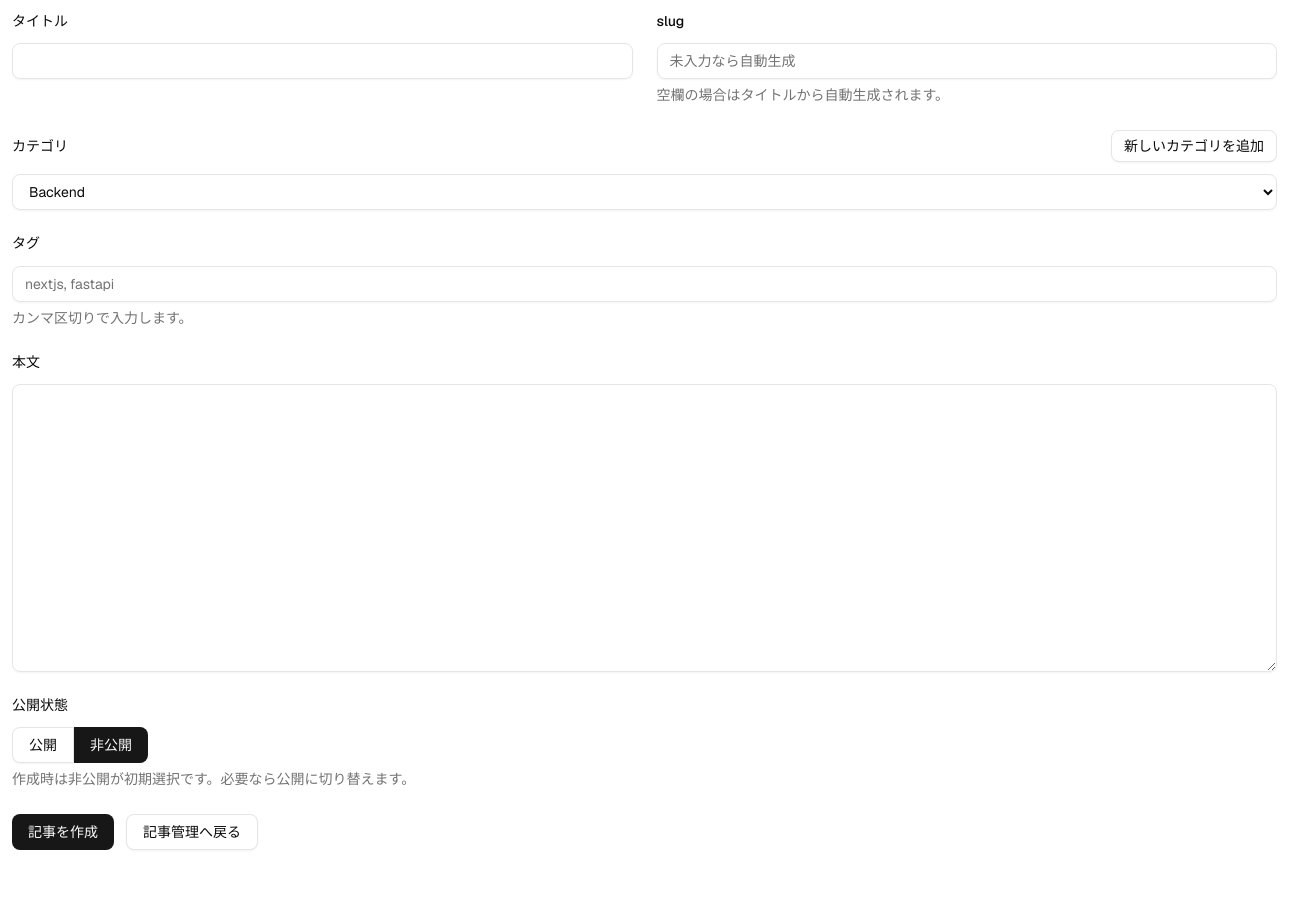
Test case: CreateArticleForm › 先頭ハイフンの slug を入力すると個別のエラーを表示する
Type "-invalid" into the field labelled "slug".
click(967, 61); type("-invalid")  # box [656,43,1277,79]
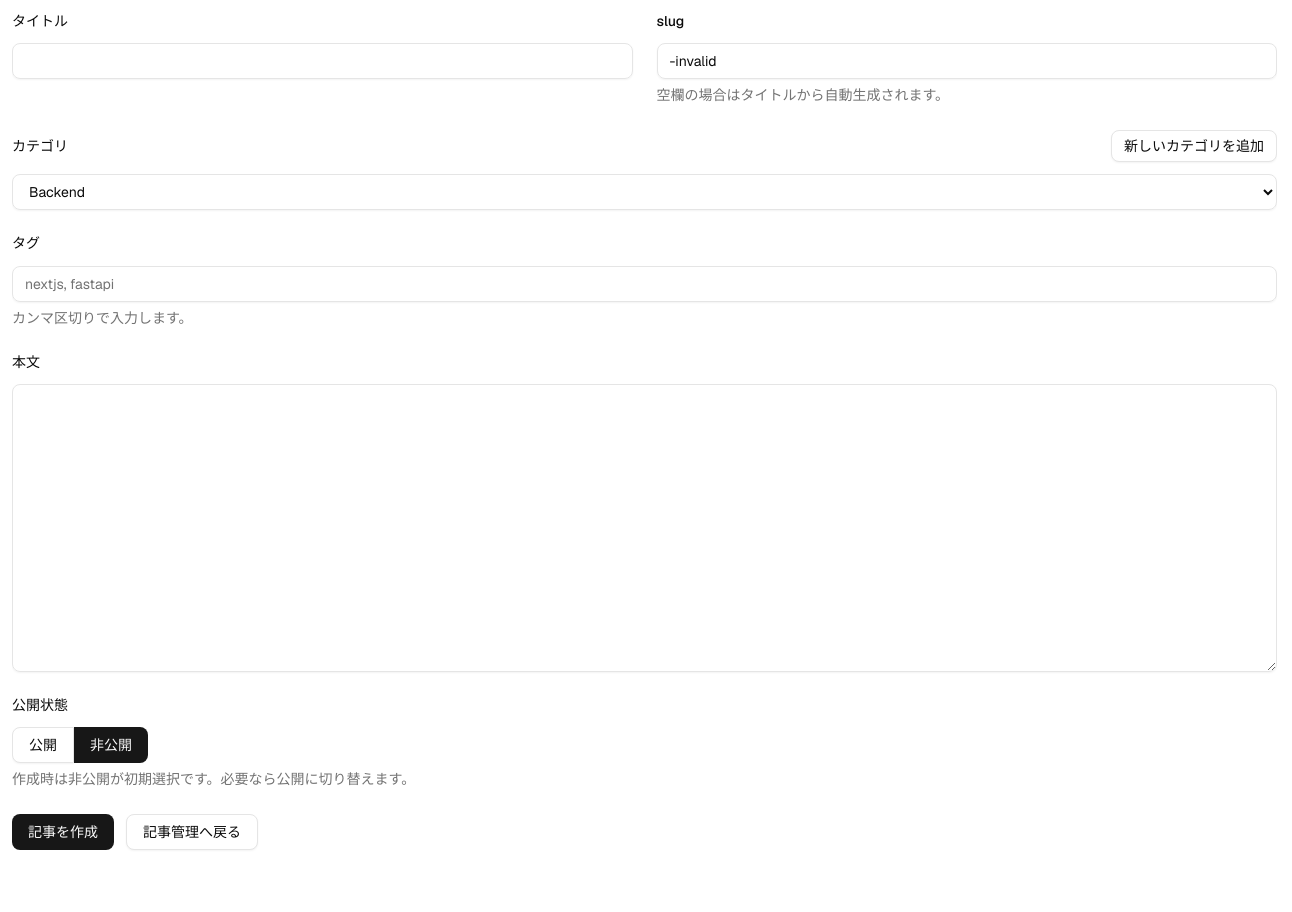
Leave the field labelled "slug", box [656,43,1277,79]
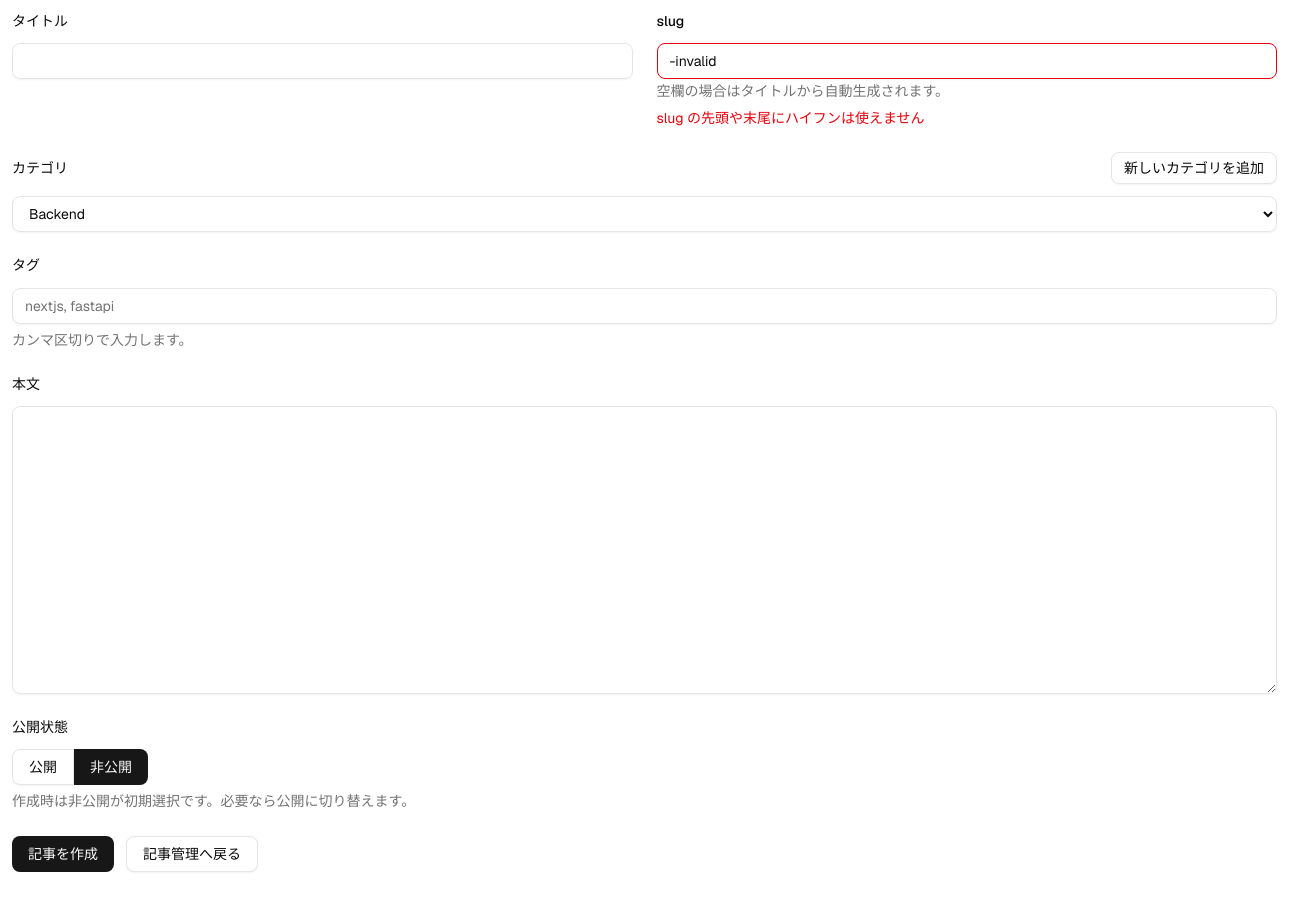
Check: the text "slug の先頭や末尾にハイフンは使えません" is shown, box [656,109,925,127]
